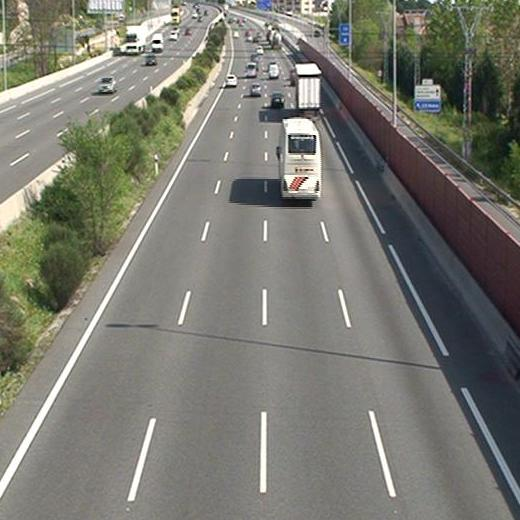bus: (280, 120, 321, 199)
car: (271, 92, 285, 107), (225, 73, 238, 86), (250, 84, 261, 97)
truck: (294, 64, 323, 116)
van: (268, 64, 280, 78), (247, 63, 257, 77)
